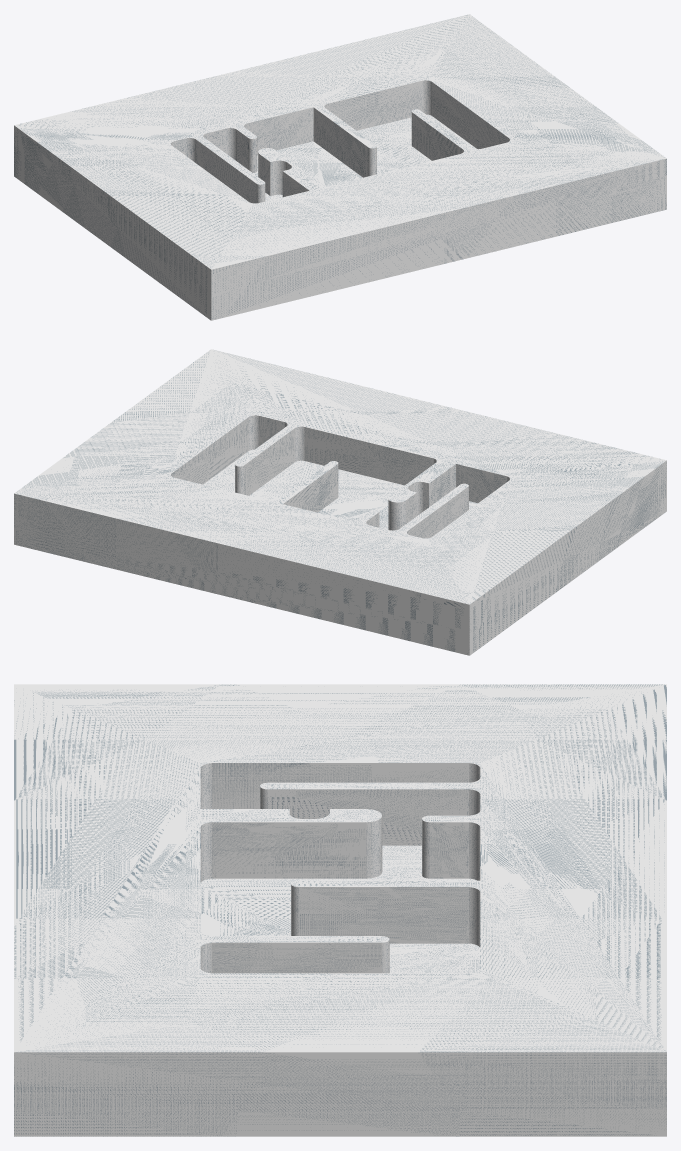
Rendered from _Tutorial 3 (dae).dae.
3 renders of one model, top to bottom at view 1: azimuth 30°, elevation 25°; view 2: azimuth 150°, elevation 25°; view 3: azimuth 270°, elevation 25°, orthographic. The views are drawn at different scales.
Parts seen in each view (by area): view 1: SketchUp (×2); view 2: SketchUp (×2); view 3: SketchUp (×2).
Boxes of the visible parts, bbox=[...] form: SketchUp (×2): bbox=[14, 14, 666, 320]; SketchUp (×2): bbox=[14, 349, 666, 655]; SketchUp (×2): bbox=[14, 684, 666, 1136].
Size of the model in its own units: 1102 by 827 by 118.
